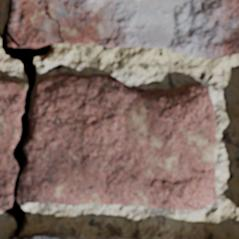brick: (47, 0, 238, 58), (8, 0, 60, 46), (9, 231, 99, 238), (108, 237, 135, 238)
broken_brick: (19, 72, 217, 211), (0, 78, 26, 211)
crack: (0, 2, 52, 236), (43, 0, 64, 44)
